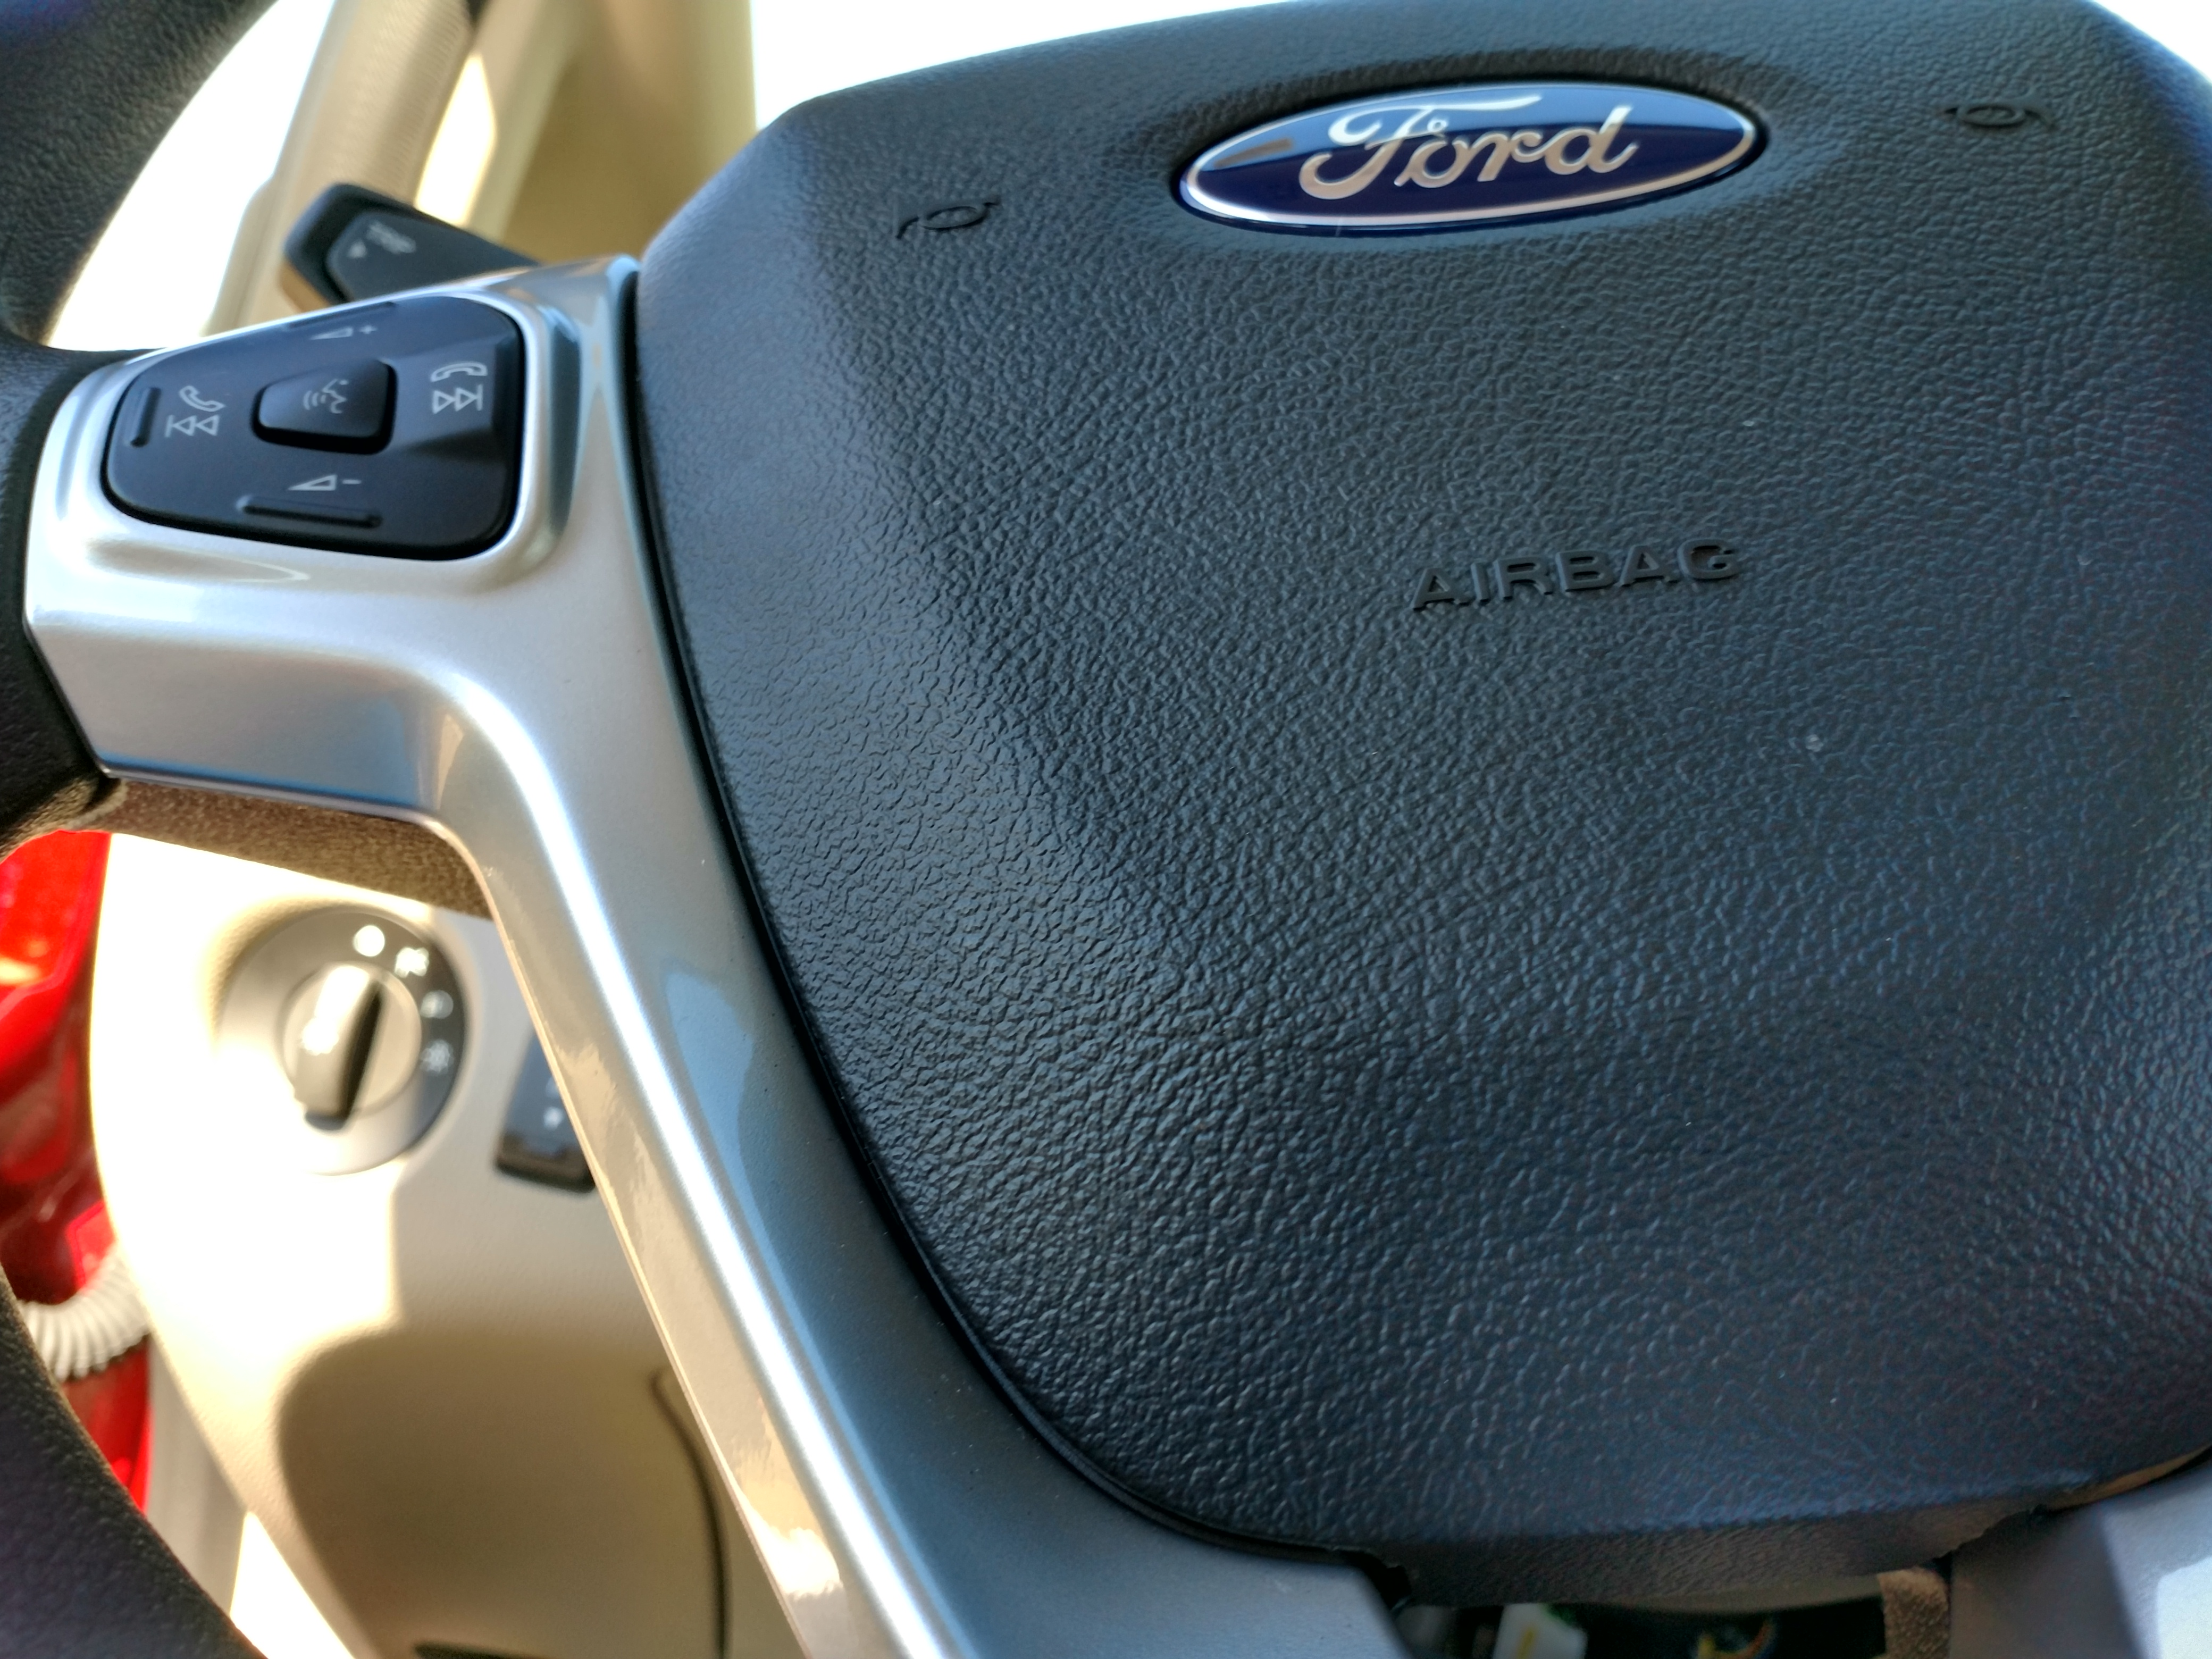Ford: (1150, 66, 1782, 240)
